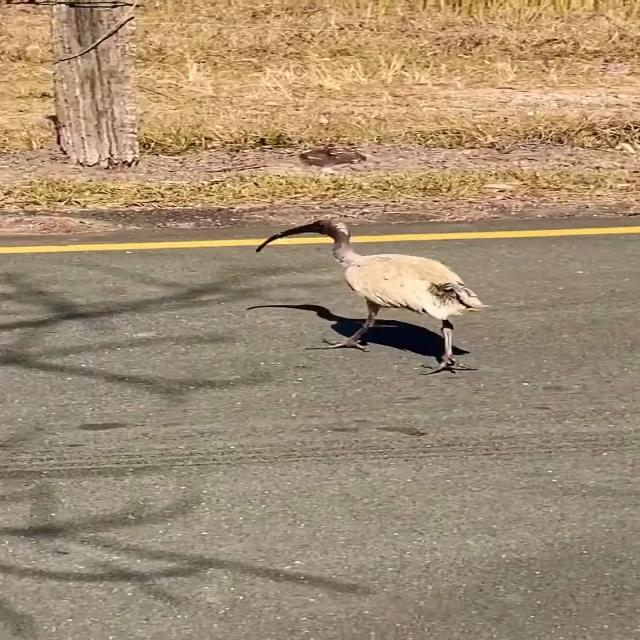Birds-Ibis: (249, 213, 498, 381)
